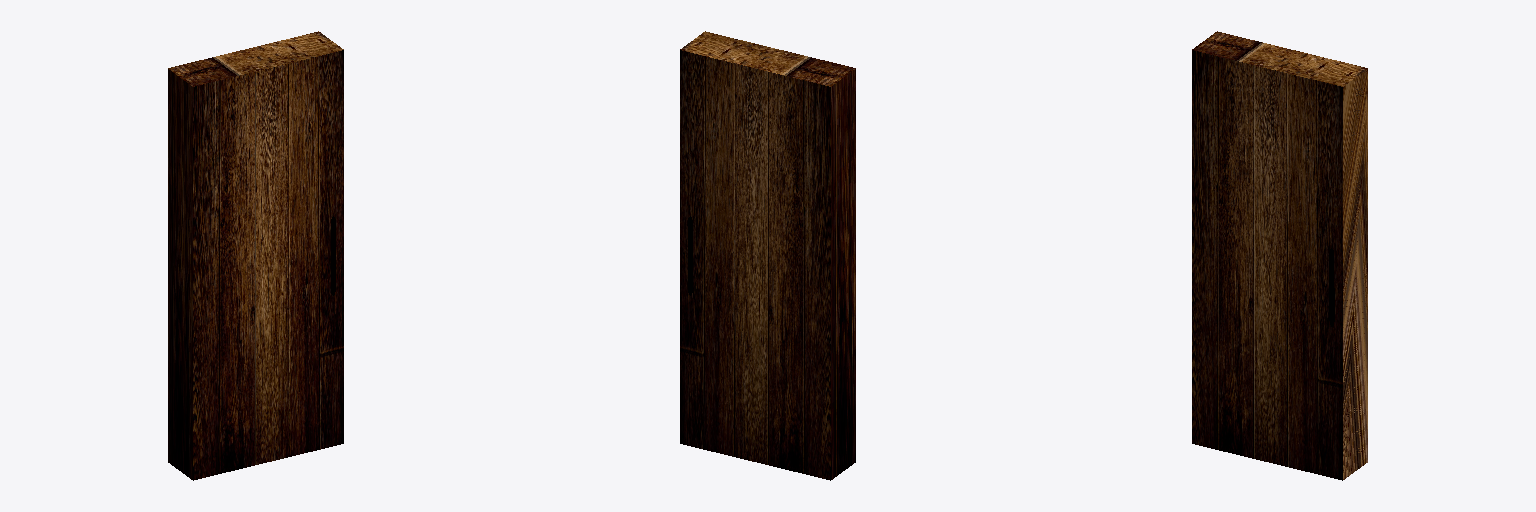
The picture shows the model from 3 angles: view 1: azimuth 30°, elevation 25°; view 2: azimuth 150°, elevation 25°; view 3: azimuth 330°, elevation 25°; orthographic projection.
Visible parts, largest first — view 1: puertaPrincipal1:pCube63; view 2: puertaPrincipal1:pCube63; view 3: puertaPrincipal1:pCube63.
Boxes of the visible parts, <box> form: puertaPrincipal1:pCube63: <box>168,31,343,480</box>; puertaPrincipal1:pCube63: <box>680,31,855,480</box>; puertaPrincipal1:pCube63: <box>1192,31,1367,480</box>.
Size of the model in its own units: 0.1715 by 0.426 by 0.05.
1 materials, 1 textured.